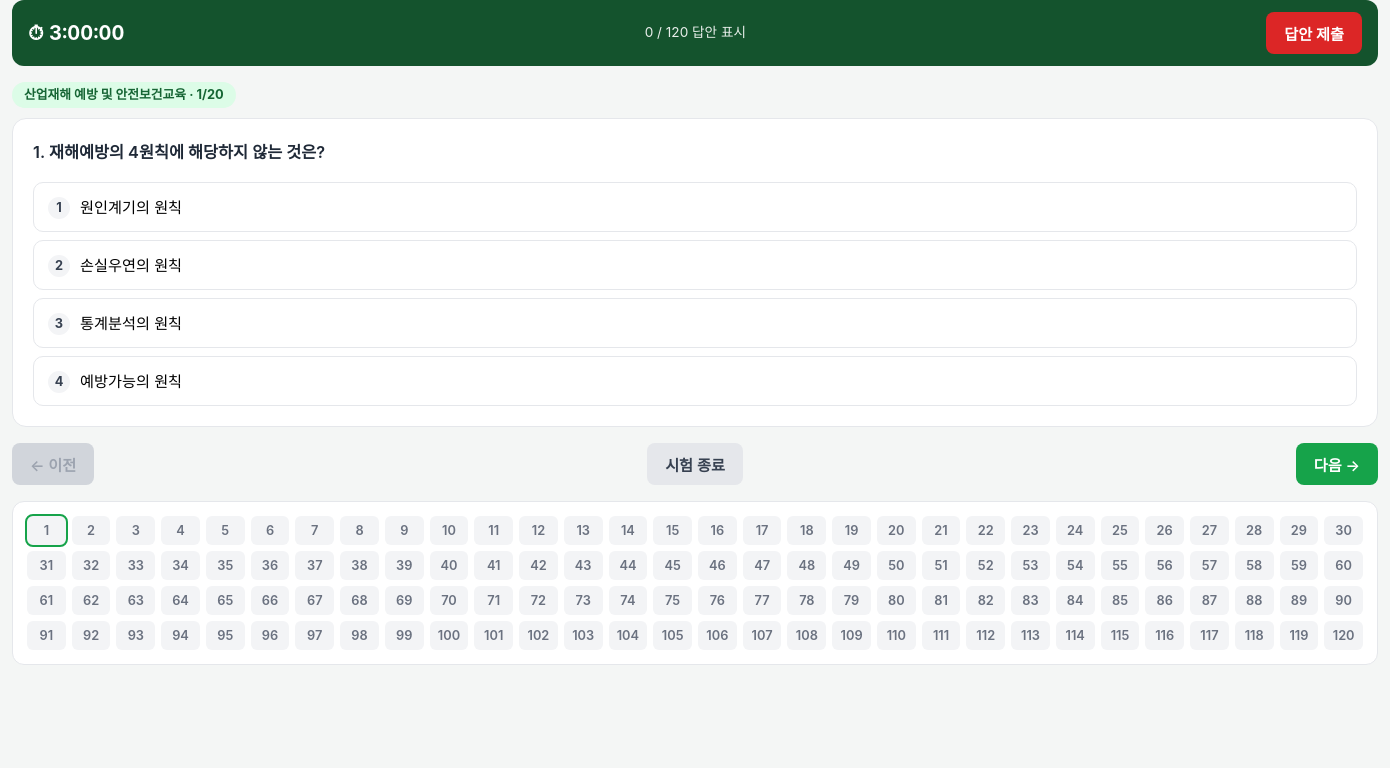
Scenario: CbtExam › 답을 고르면 원래 보기 번호로 저장된다
The width and height of the screenshot is (1390, 768).
What coordinates should you click on to do the following:
click the button "2 손실우연의 원칙"
I would click on:
 (131, 265)
Its box is [33,240,1357,290].
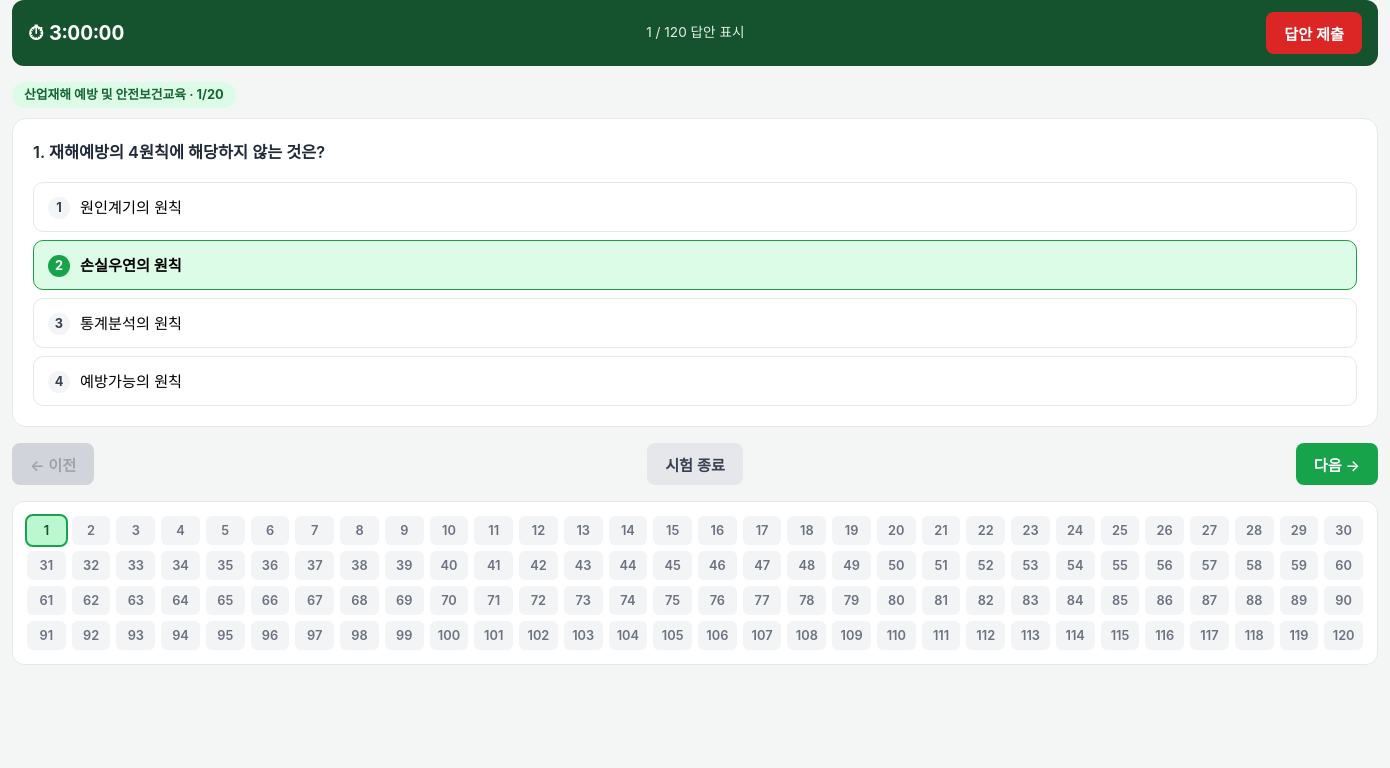
Now the text "1 / 120 답안 표시" is shown, box [646,22,744,44]
